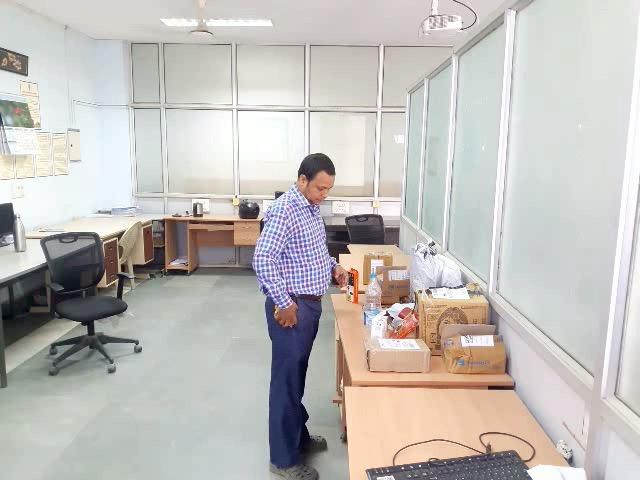shoplifting: (236, 264, 384, 369)
